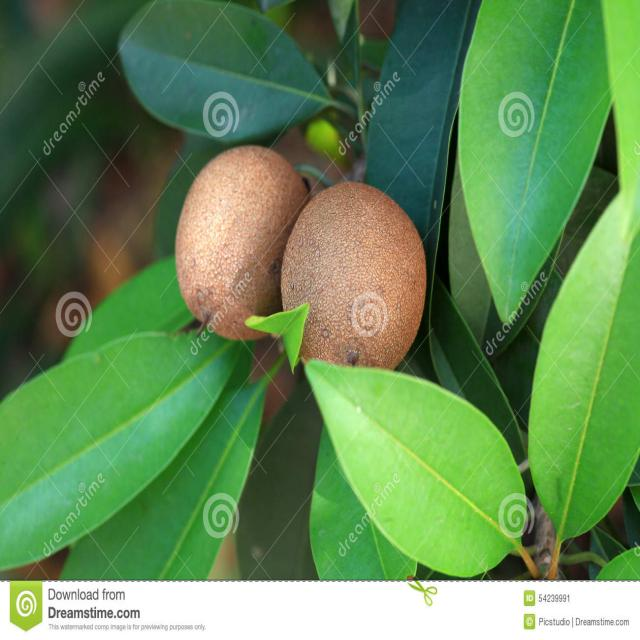chikkoo: (169, 132, 337, 338), (289, 164, 442, 378)
